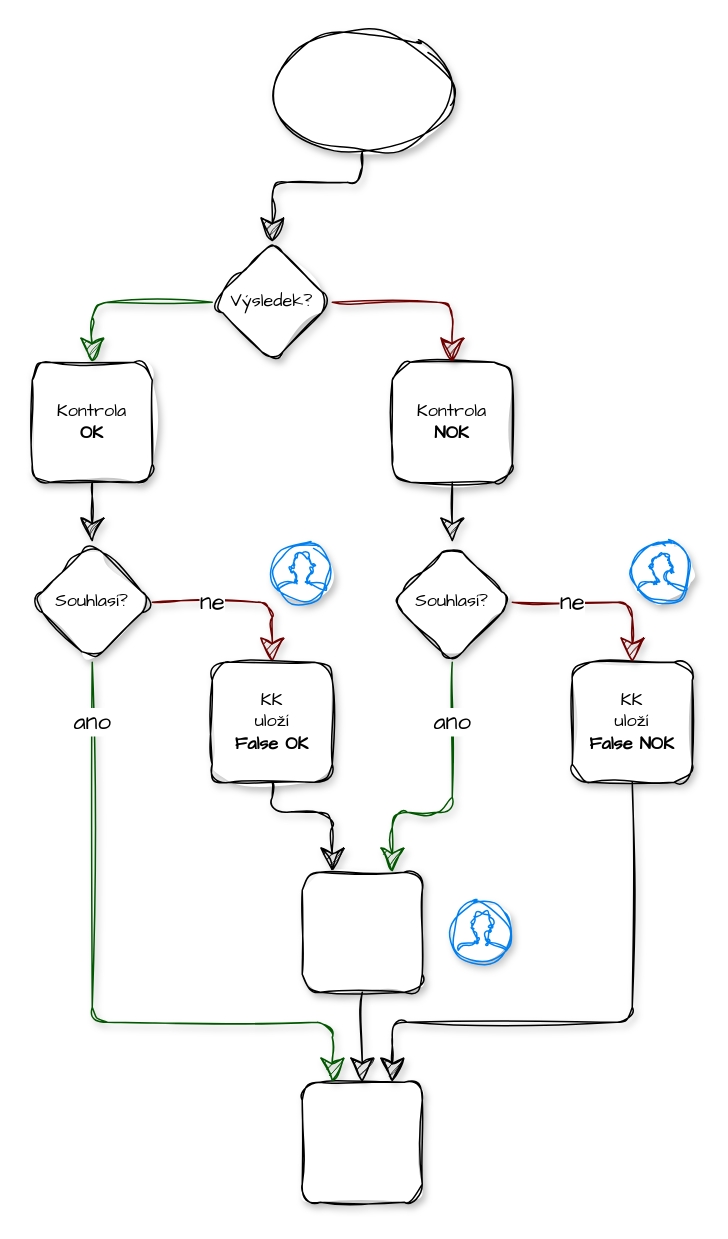
Image size: 728x1239. Some labels were removed from this diagram. Here are the shapes that lost their labels. From the top down, the centre of each, then its label:
At point (363, 94): "START KK".
At point (363, 934): "Oprava chybného stavu".
At point (363, 1144): "Odeslat stav OK do SQS".
